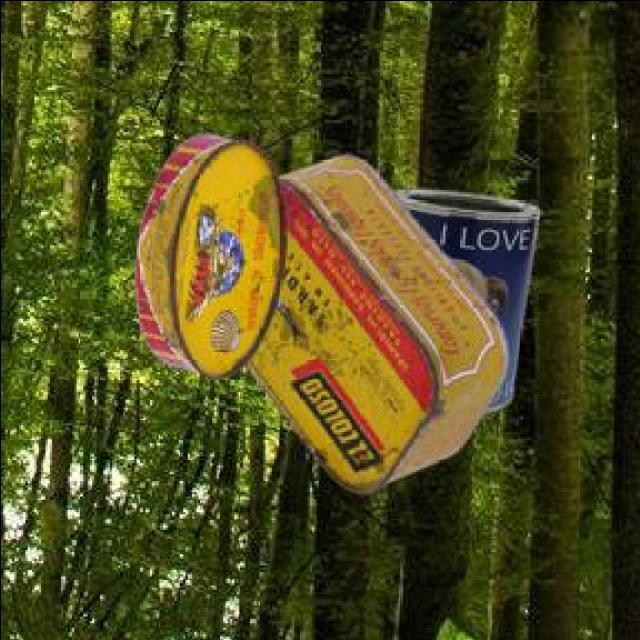logam: (248, 159, 510, 497), (139, 137, 288, 381), (397, 192, 543, 414)
